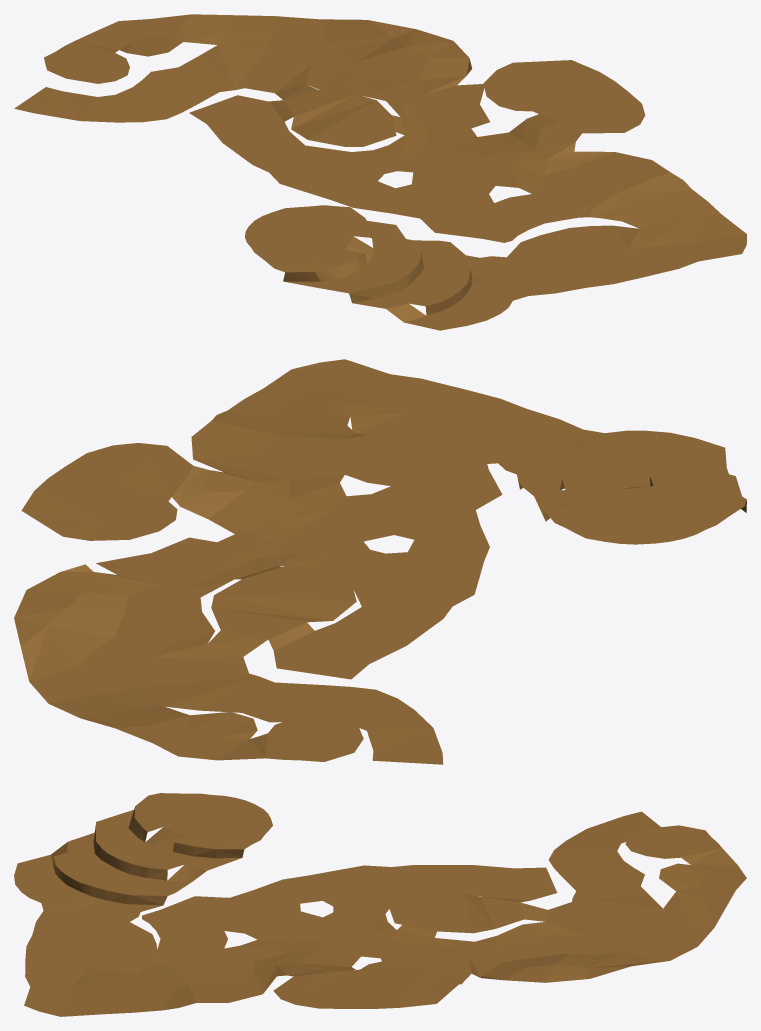
The model's file is Floor.FBX.
3 views of the same model, one above another, from view 1: azimuth 30°, elevation 25°; view 2: azimuth 150°, elevation 25°; view 3: azimuth 270°, elevation 25° (orthographic). The views are drawn at different scales.
Visible parts, largest first — view 1: 0_Floor; view 2: 0_Floor; view 3: 0_Floor.
Part boxes in pixels (bbox=[...]): 0_Floor: bbox=[14, 14, 746, 330]; 0_Floor: bbox=[14, 359, 746, 764]; 0_Floor: bbox=[14, 793, 746, 1016].
Size of the model in its own units: 5926 by 368 by 8568.
